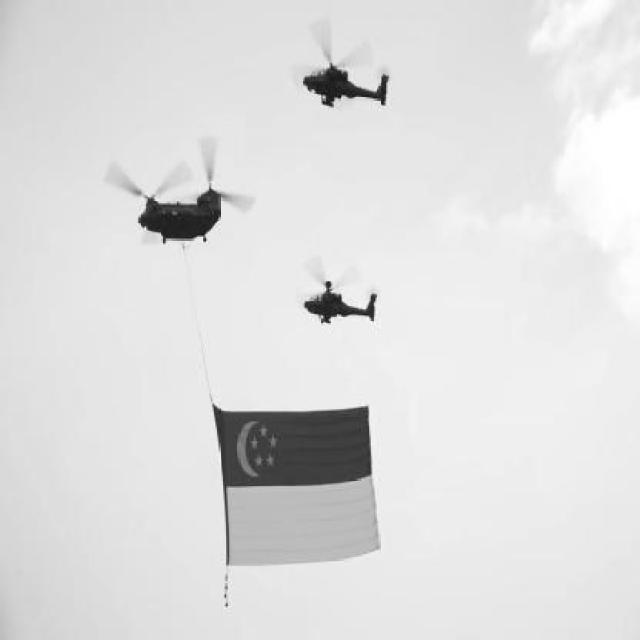Helicopter: (105, 138, 256, 247), (292, 17, 395, 110), (296, 252, 380, 327)
